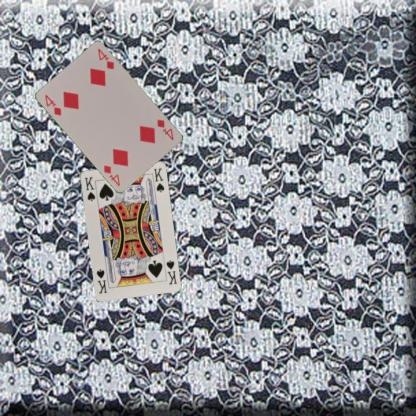4d: (155, 116, 175, 142), (43, 92, 63, 117)
Ks: (163, 257, 178, 286), (82, 174, 97, 202)
